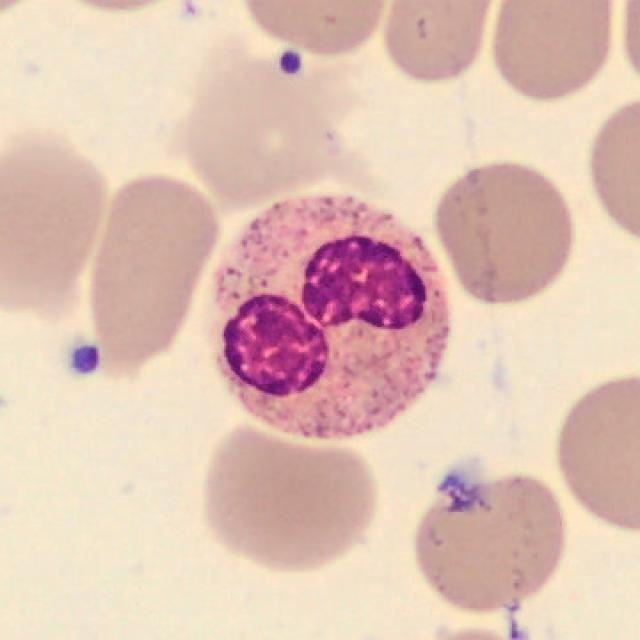Neutrofilo segmentado: (217, 197, 448, 436)
